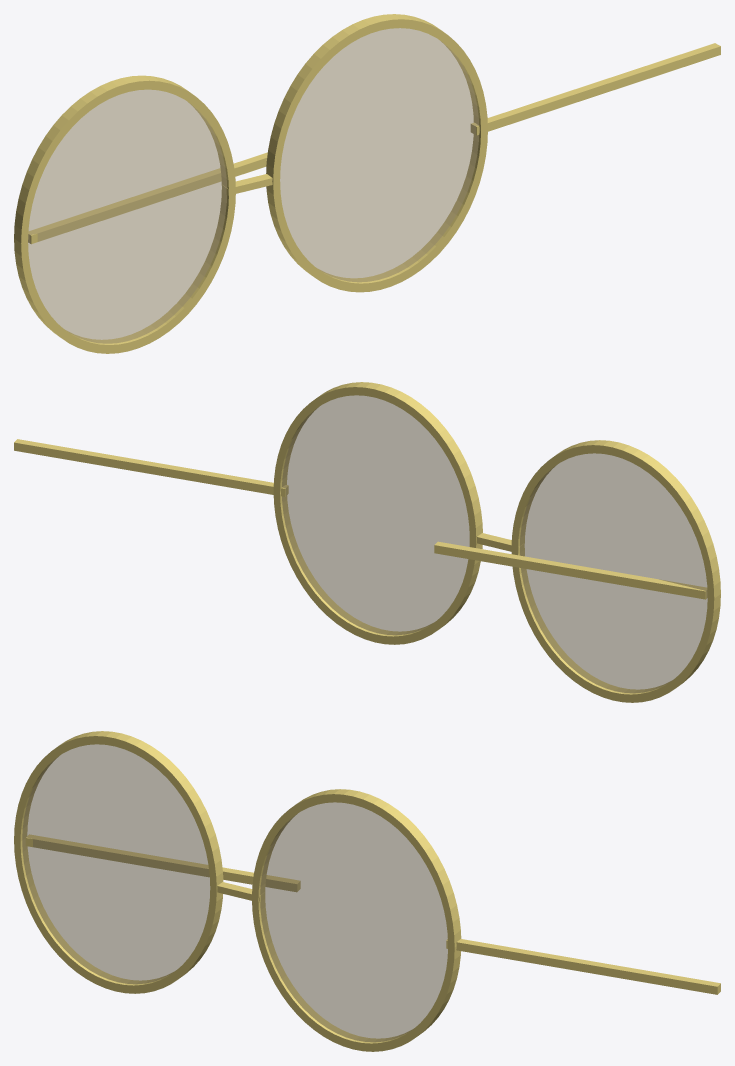
File: aviator-gold.glb
3 renders of one model, top to bottom at view 1: azimuth 30°, elevation 25°; view 2: azimuth 150°, elevation 25°; view 3: azimuth 330°, elevation 25°, orthographic. The views are drawn at different scales.
Parts seen in each view (by area): view 1: lens_glass_right, lens_glass_left, lens_frame_left, lens_frame_right, temple_right, temple_left; view 2: lens_glass_right, lens_glass_left, lens_frame_left, lens_frame_right, temple_left, temple_right; view 3: lens_glass_right, lens_glass_left, lens_frame_left, lens_frame_right, temple_right, temple_left.
Boxes of the visible parts, x1=… form: lens_glass_right: x1=280, y1=28, x2=478, y2=282; lens_glass_left: x1=28, y1=89, x2=226, y2=343; lens_frame_left: x1=14, y1=75, x2=235, y2=353; lens_frame_right: x1=266, y1=14, x2=487, y2=292; temple_right: x1=470, y1=43, x2=720, y2=135; temple_left: x1=28, y1=152, x2=267, y2=244; lens_glass_right: x1=282, y1=395, x2=469, y2=635; lens_glass_left: x1=520, y1=453, x2=707, y2=693; lens_frame_left: x1=511, y1=440, x2=720, y2=702; lens_frame_right: x1=273, y1=382, x2=482, y2=644; temple_left: x1=434, y1=541, x2=707, y2=599; temple_right: x1=14, y1=439, x2=288, y2=496; lens_glass_right: x1=260, y1=802, x2=447, y2=1042; lens_glass_left: x1=22, y1=744, x2=210, y2=984; lens_frame_left: x1=14, y1=731, x2=223, y2=993; lens_frame_right: x1=252, y1=789, x2=461, y2=1051; temple_right: x1=446, y1=939, x2=720, y2=994; temple_left: x1=25, y1=834, x2=300, y2=892.
Size of the model in its own units: 0.3498 by 0.124 by 0.0231.
